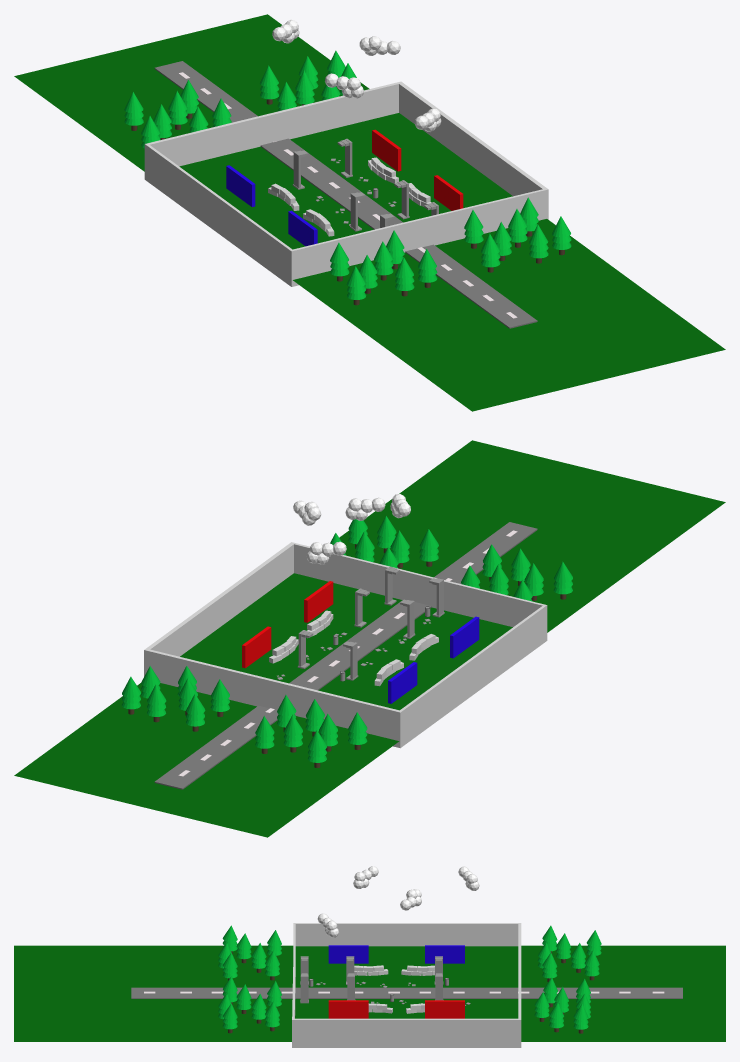
The model's file is MAP.fbx.
The picture shows the model from 3 angles, top to bottom: view 1: azimuth 30°, elevation 25°; view 2: azimuth 150°, elevation 25°; view 3: azimuth 270°, elevation 25°; orthographic projection. The views are drawn at different scales.
Parts seen in each view (by area): view 1: Plane.001, Cube.026, Cube, Cube.063, Cube.061, Cube.062, Cube.060; view 2: Plane.001, Cube.026, Cube, Cube.063, Cube.061, Cube.062, Cube.060; view 3: Plane.001, Cube.026, Cube, Cube.062, Cube.063, Cube.060, Cube.061.
Boxes of the visible parts, left/top/right/bottom form: Plane.001: left=14, top=14, right=725, bottom=411; Cube.026: left=144, top=81, right=548, bottom=286; Cube: left=154, top=61, right=537, bottom=328; Cube.063: left=372, top=129, right=401, bottom=171; Cube.061: left=226, top=165, right=255, bottom=206; Cube.062: left=434, top=175, right=463, bottom=210; Cube.060: left=288, top=210, right=317, bottom=246; Plane.001: left=14, top=440, right=725, bottom=837; Cube.026: left=144, top=542, right=547, bottom=748; Cube: left=154, top=522, right=537, bottom=789; Cube.063: left=242, top=626, right=271, bottom=668; Cube.061: left=388, top=662, right=417, bottom=703; Cube.062: left=304, top=581, right=333, bottom=622; Cube.060: left=450, top=616, right=479, bottom=658; Plane.001: left=14, top=945, right=725, bottom=1041; Cube.026: left=292, top=923, right=521, bottom=1047; Cube: left=131, top=987, right=682, bottom=998; Cube.062: left=328, top=1000, right=368, bottom=1018; Cube.063: left=425, top=1000, right=464, bottom=1018; Cube.060: left=328, top=945, right=368, bottom=963; Cube.061: left=425, top=945, right=464, bottom=963.
Size of the model in its own units: 4041 by 2341 by 12508.
